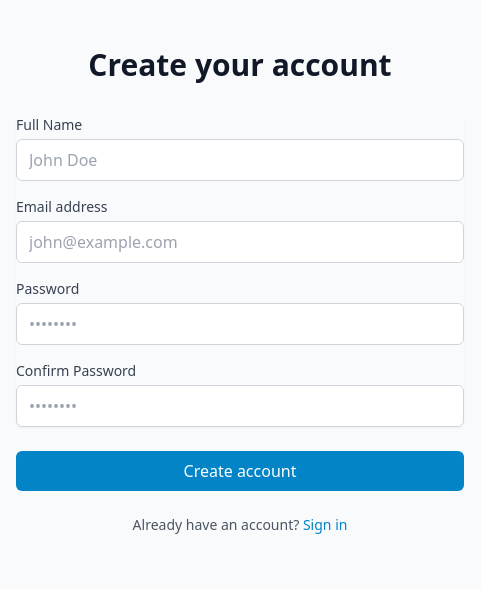
Scenario: Register › shows error message when registration fails
// Fill in the form
Step 1. Type "Test User" into the field labelled "Full Name" → (240,160), box [16,139,464,181]
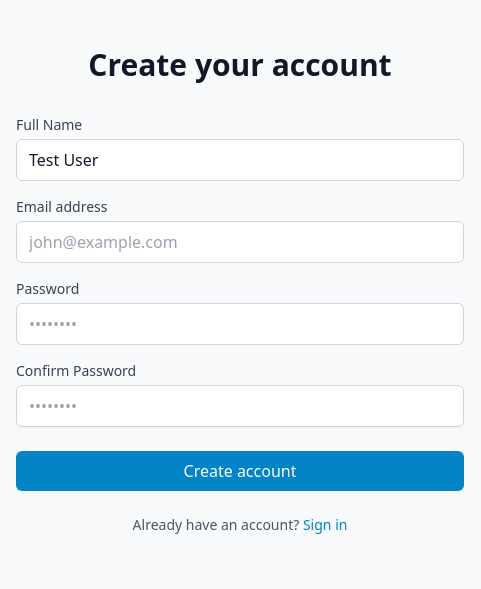
Step 2. Type "existing@example.com" into the field labelled "Email address" → (240,242), box [16,221,464,263]
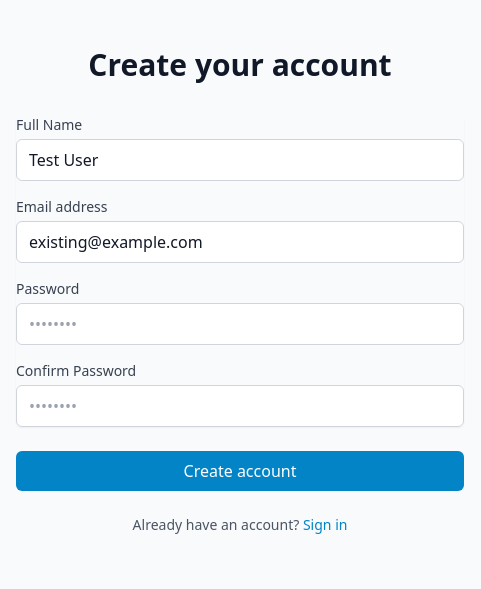
Step 3. Type "password123" into the password field labelled "Password" → (240,324), box [16,303,464,345]
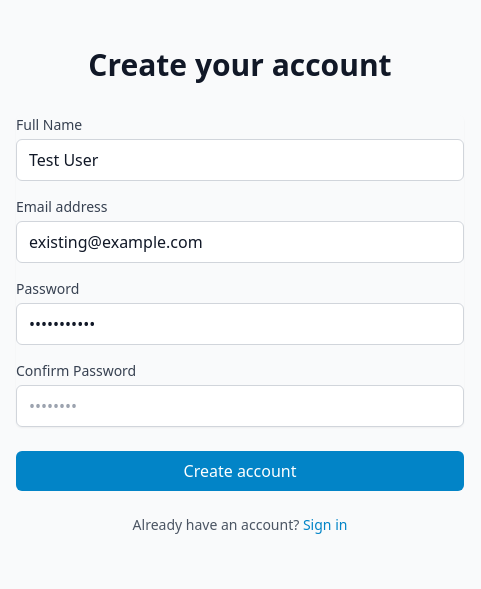
Step 4. Type "password123" into the password field labelled "Confirm Password" → (240,406), box [16,385,464,427]
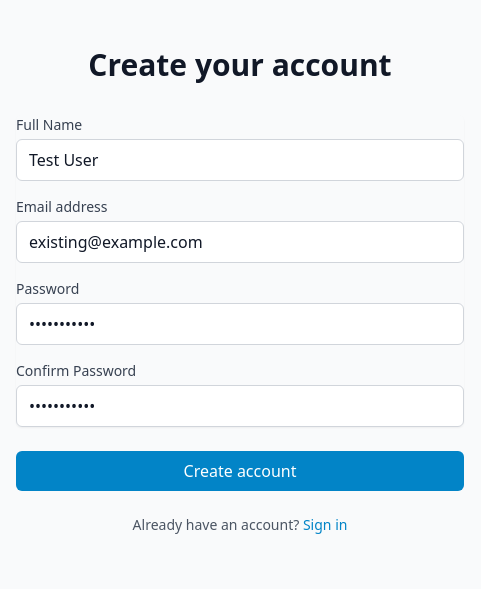
// Submit the form
Step 5. Click the button "Create account" → (240,471), box [16,451,464,491]
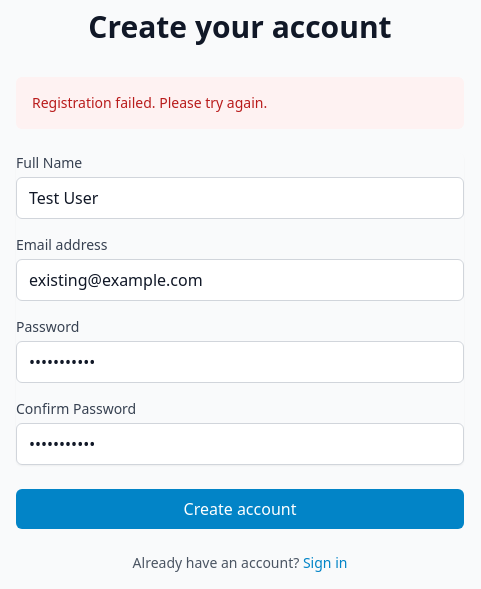
Result: the text "Registration failed. Please try again." is shown at [32,93,267,112]
